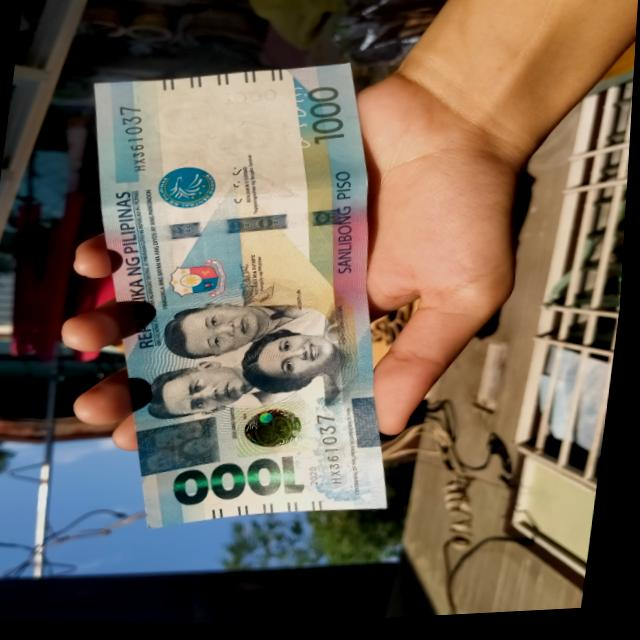concealed_value: (140, 417, 226, 477)
optically_variable_device: (236, 403, 314, 458)
security_thread: (107, 208, 370, 245)
see_through_mark: (283, 85, 320, 154)
serial_number: (101, 92, 162, 181), (308, 412, 357, 494)
value: (173, 450, 317, 519)
value_watermark: (214, 83, 278, 112)
watermark: (142, 96, 289, 186)
